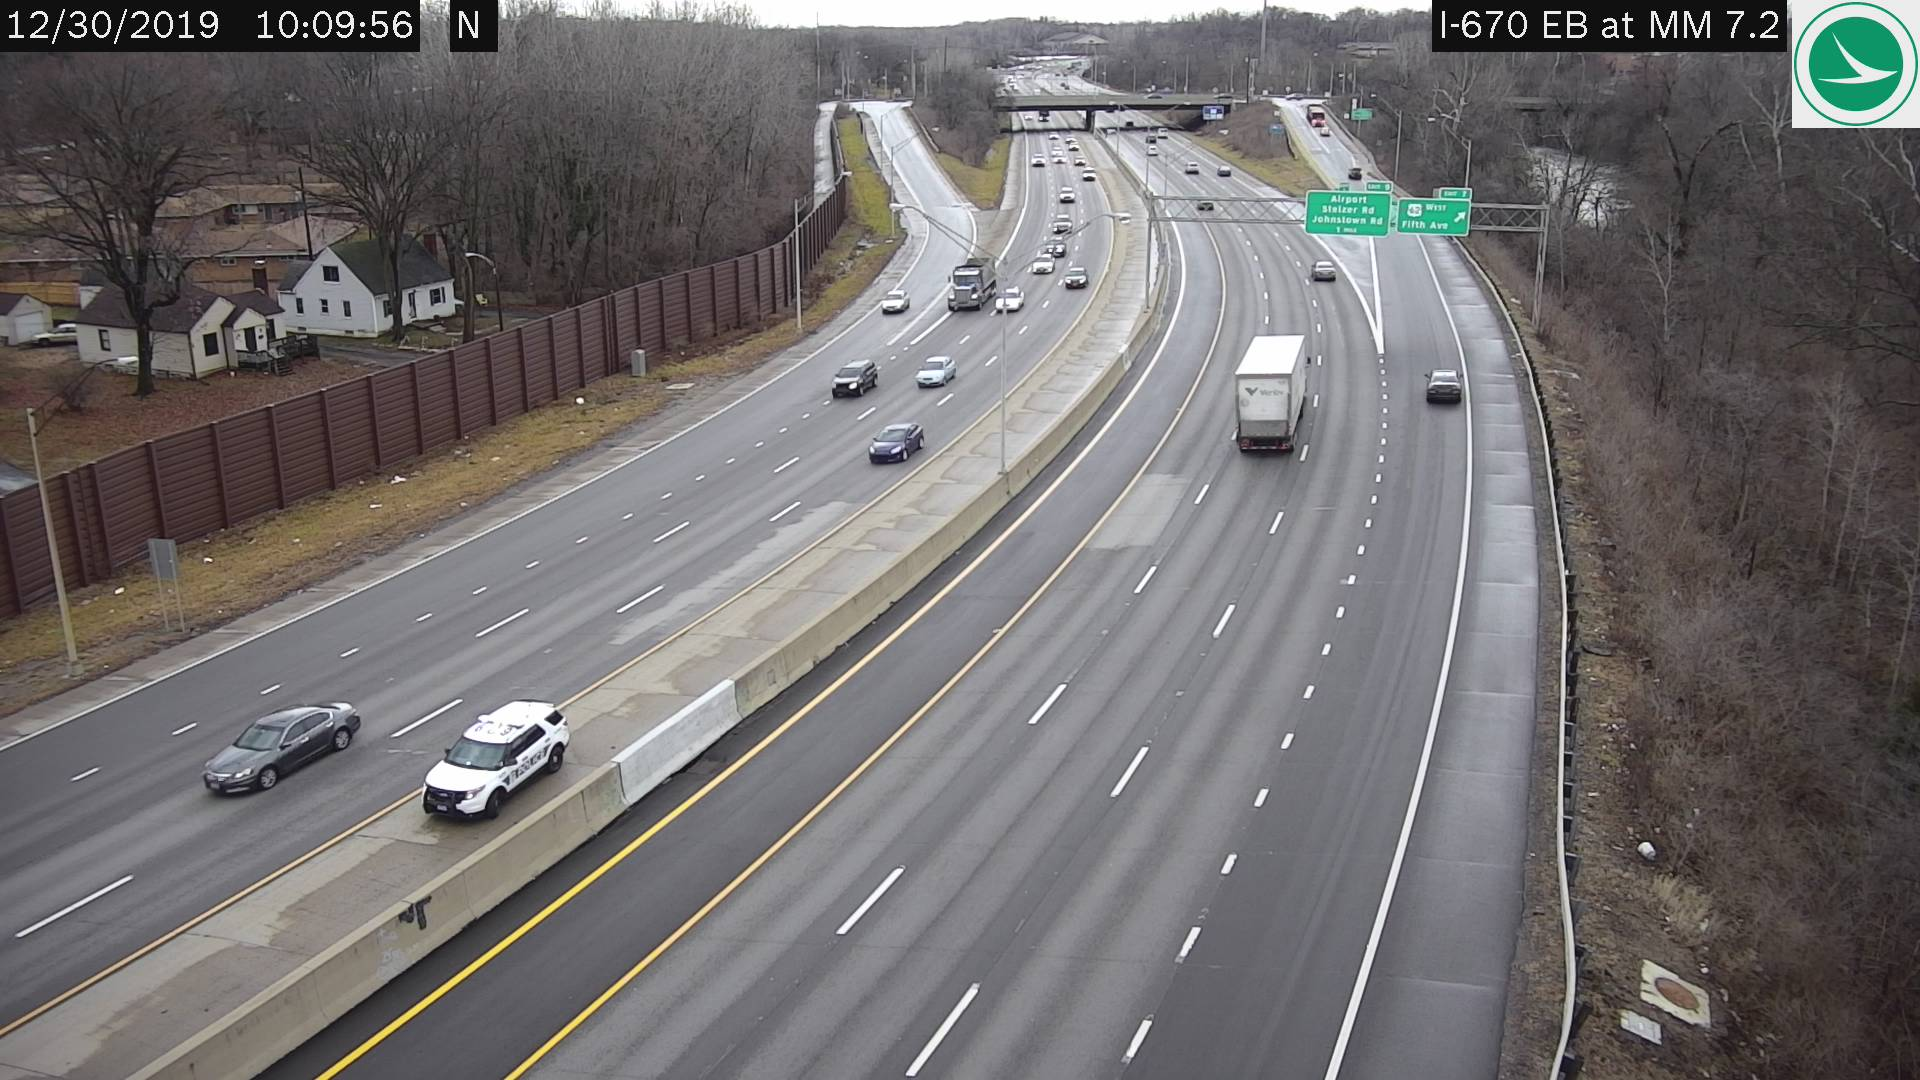car: (418, 700, 566, 824), (202, 700, 357, 796), (1238, 332, 1305, 452), (945, 252, 994, 316), (866, 425, 922, 460), (829, 360, 878, 396), (914, 352, 957, 392), (1425, 364, 1462, 404), (881, 287, 910, 313), (996, 284, 1021, 311), (1044, 235, 1065, 260), (1313, 256, 1338, 276), (1052, 211, 1072, 235), (1065, 266, 1087, 286), (1033, 253, 1054, 273), (1346, 164, 1364, 179), (1058, 186, 1073, 202), (1185, 160, 1201, 173), (1030, 152, 1043, 167), (1081, 166, 1096, 179), (1216, 162, 1230, 173)
